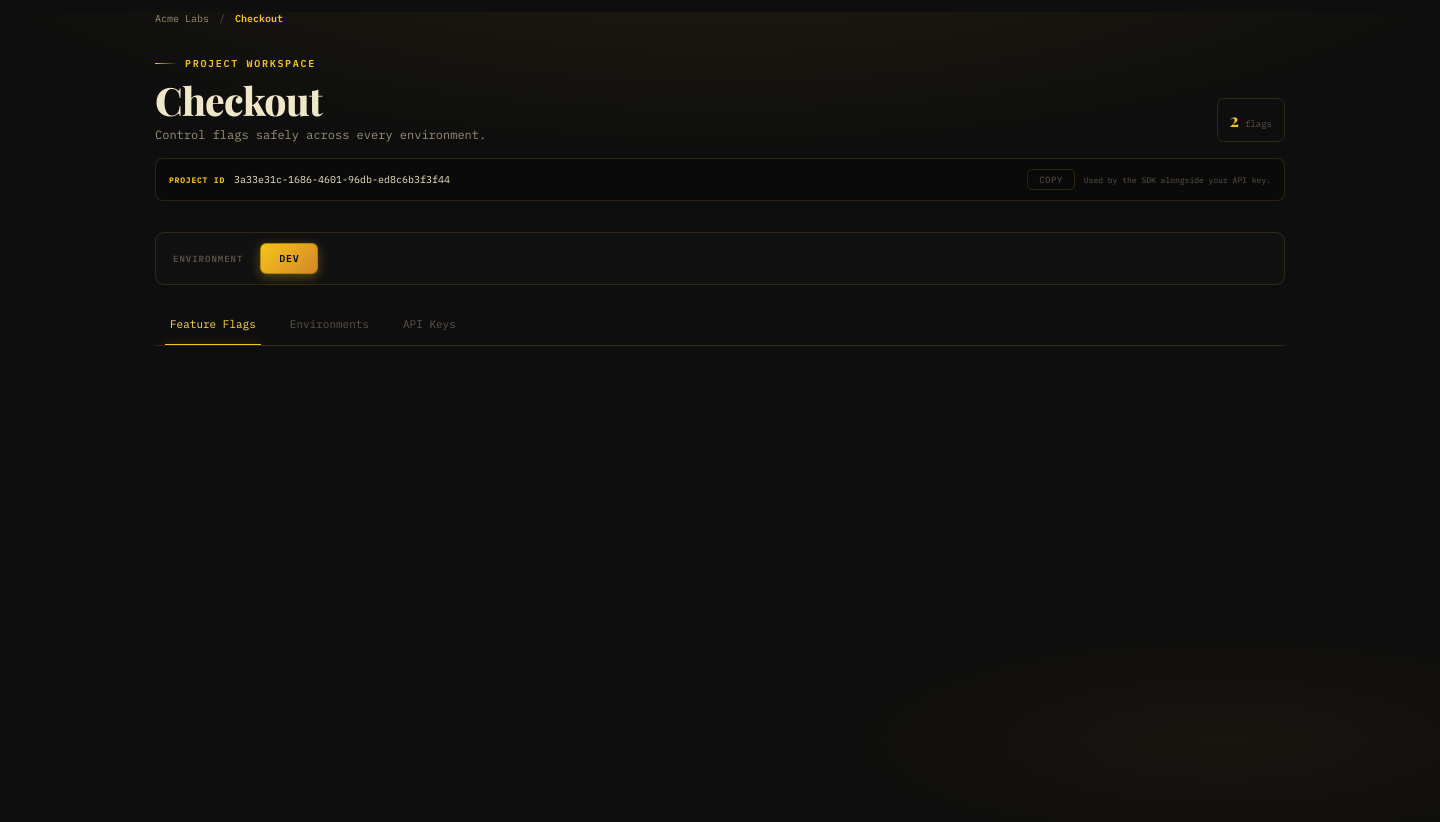
Test case: ProjectHeader project id copy › copies the project id to the clipboard and confirms it
Click the button named "project id". click: [1051, 180]
box: x1=1027 y1=169 x2=1075 y2=190
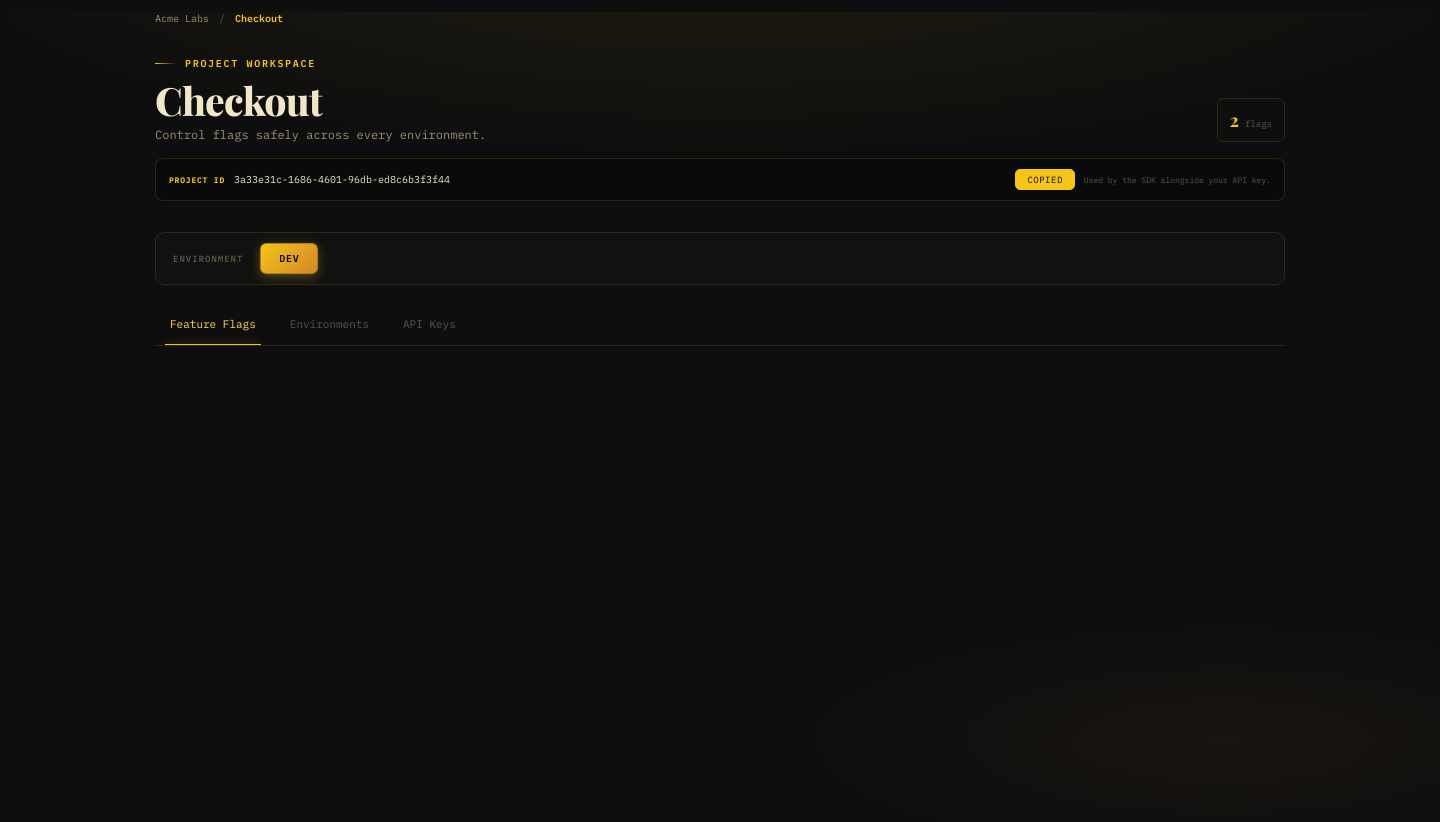
Now the button named "project id" reads "Copied", box x1=1015 y1=169 x2=1075 y2=190
